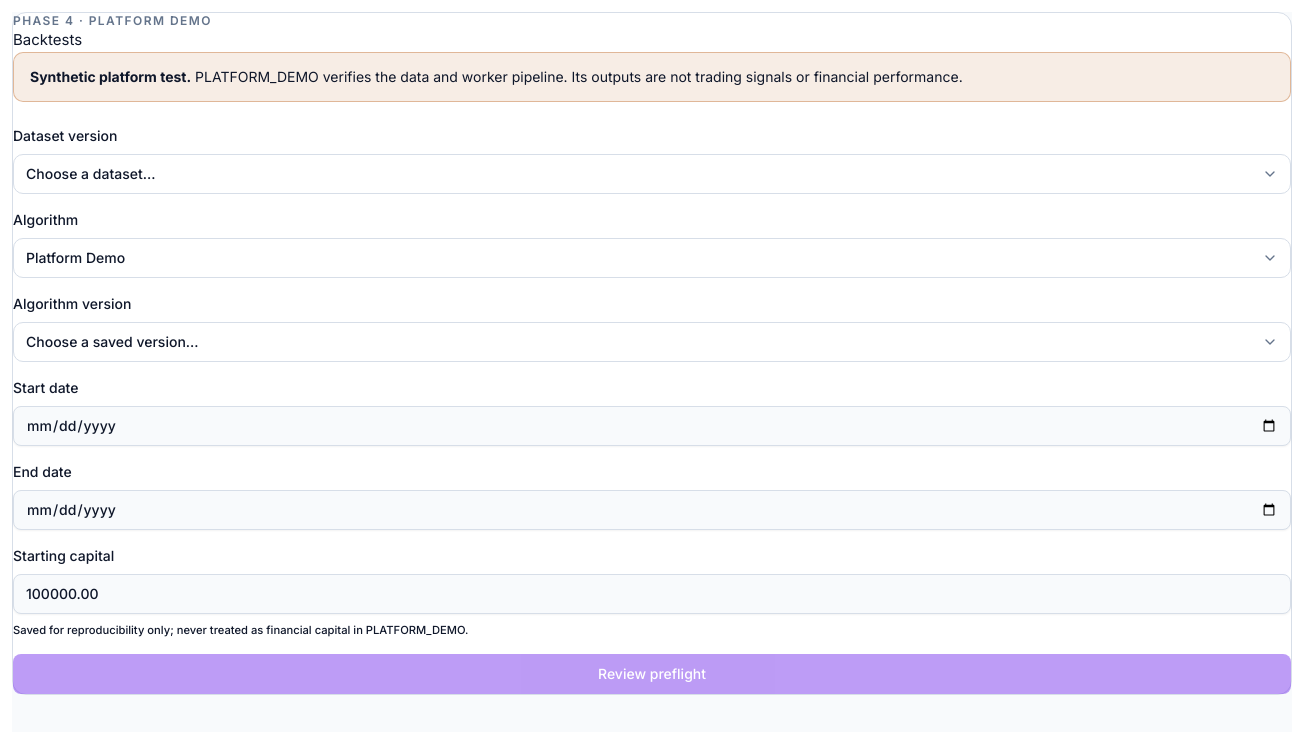
Test: BacktestsPage › labels the screen platform-demo and keeps warning acknowledgement visible
Expected: the heading "Backtests" is shown, [13,30,82,49]
Expected: the text "outputs are not trading signals" is shown, [191,68,963,84]
Click the dropdown named "Dataset version".
click(91, 173)  # box [13,154,1291,194]
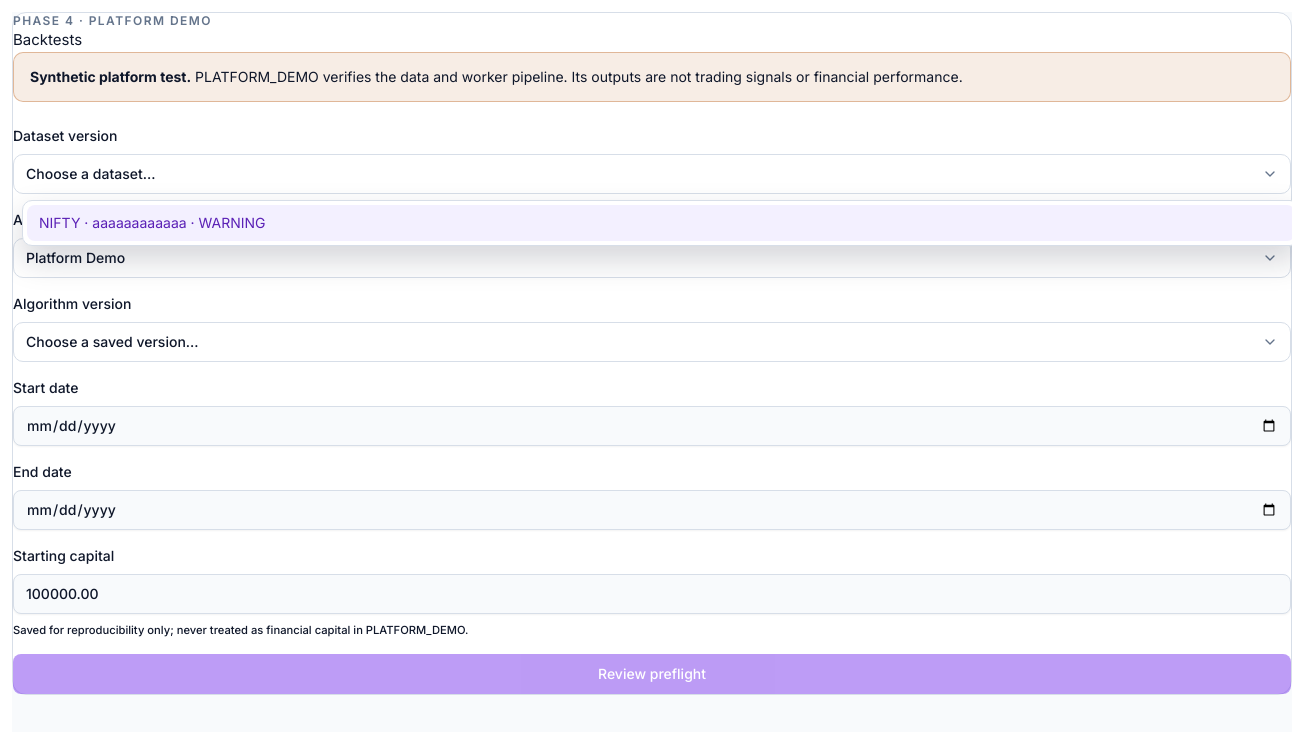
Click the option "NIFTY · aaaaaaaaaaaa · WARNING".
click(152, 222)  # box [27,205,1292,241]
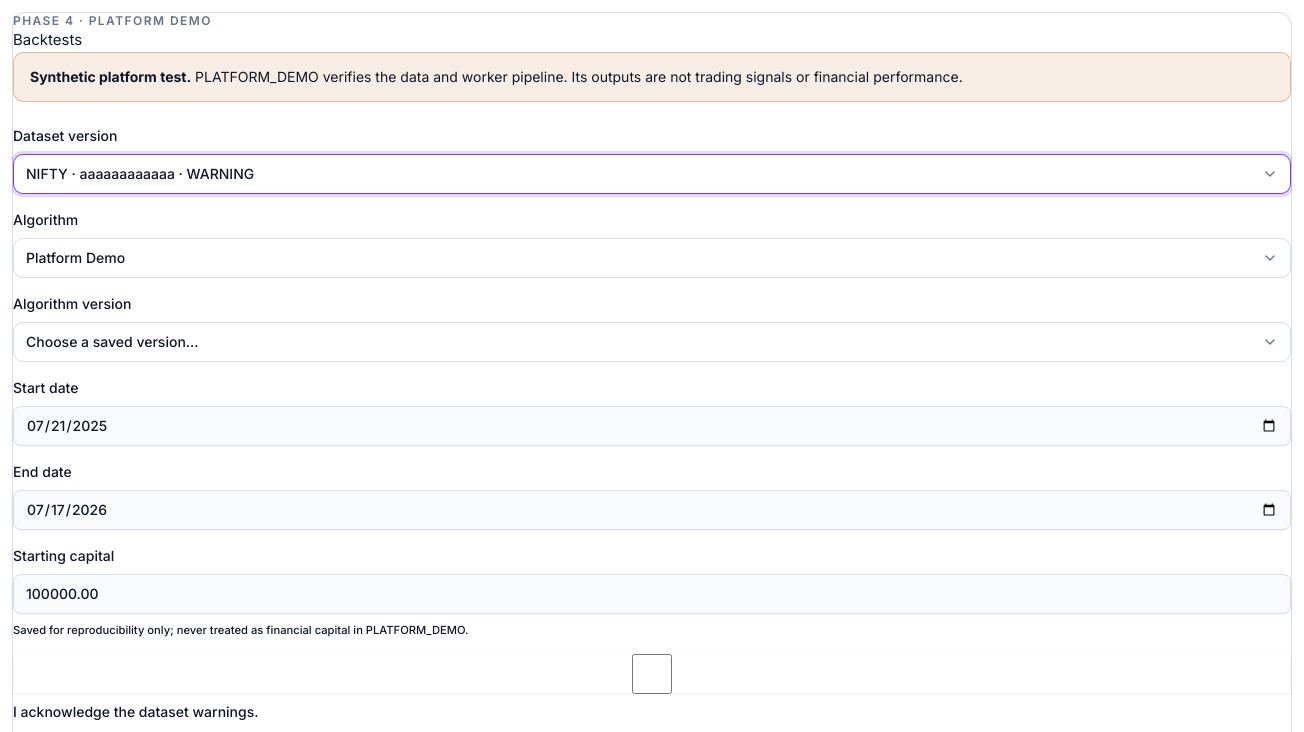
Now the text "I acknowledge the dataset warnings." is shown, box [13,654,1291,722]
